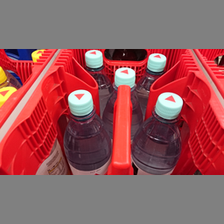water: (131, 93, 186, 174), (61, 88, 111, 174)
